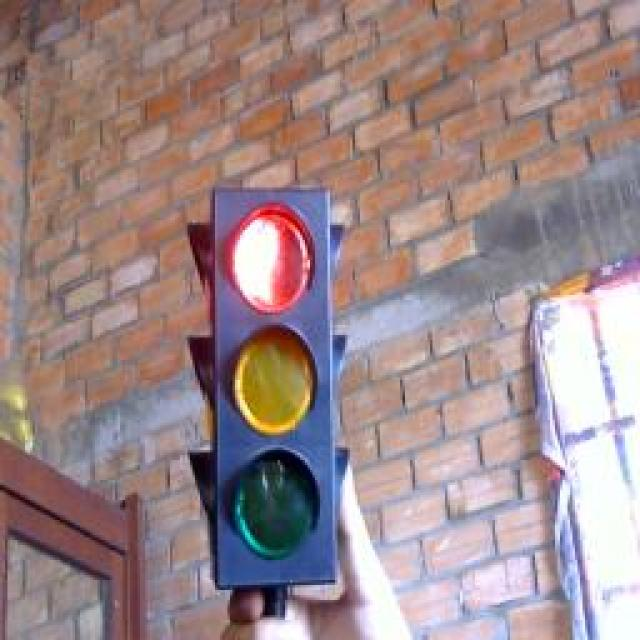-: (225, 194, 317, 319)
